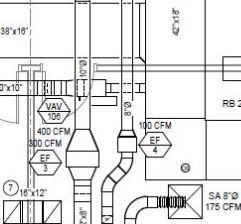VAV: (71, 71, 119, 109)
